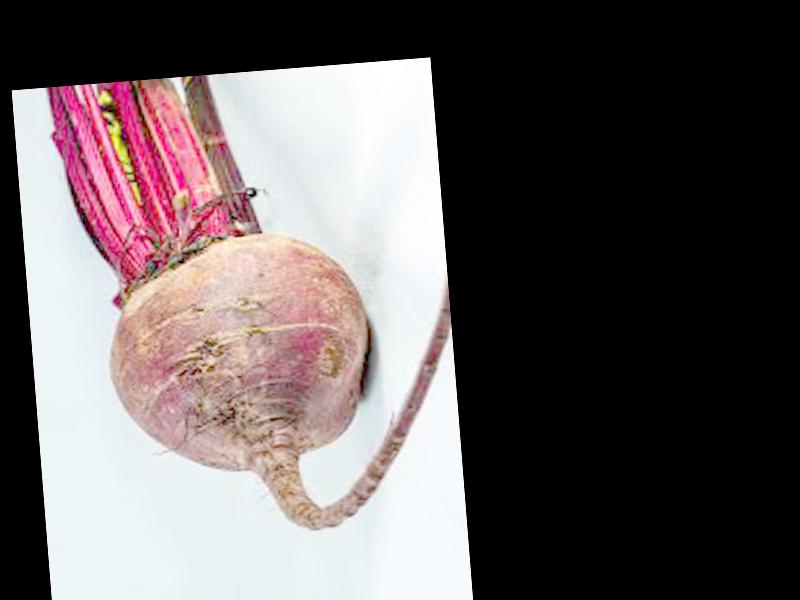Beet: (43, 57, 462, 548)
